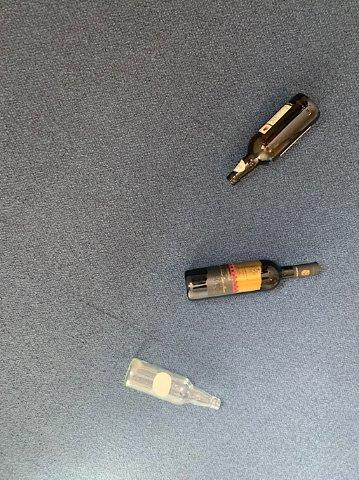botolkaca: (227, 95, 321, 186), (185, 258, 321, 298), (122, 358, 222, 412)
